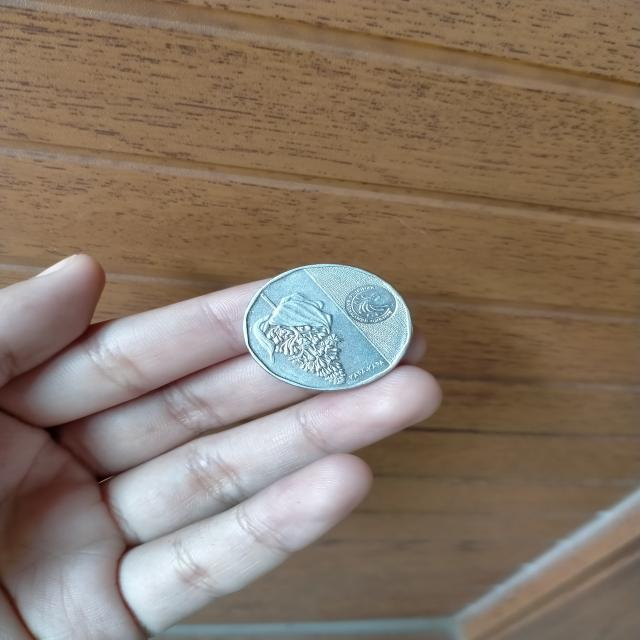10_New_Back: (240, 286, 354, 387)
